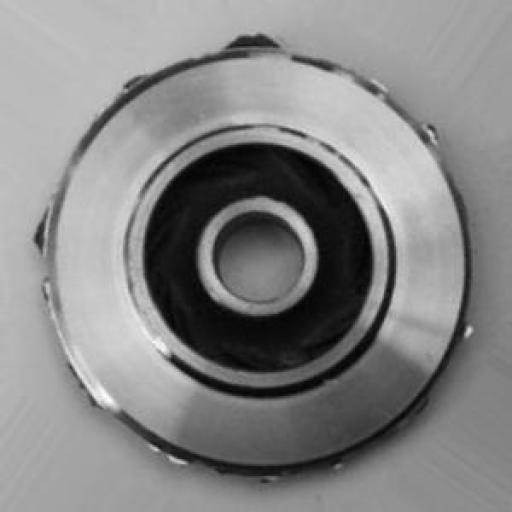defect: (25, 27, 492, 487)
